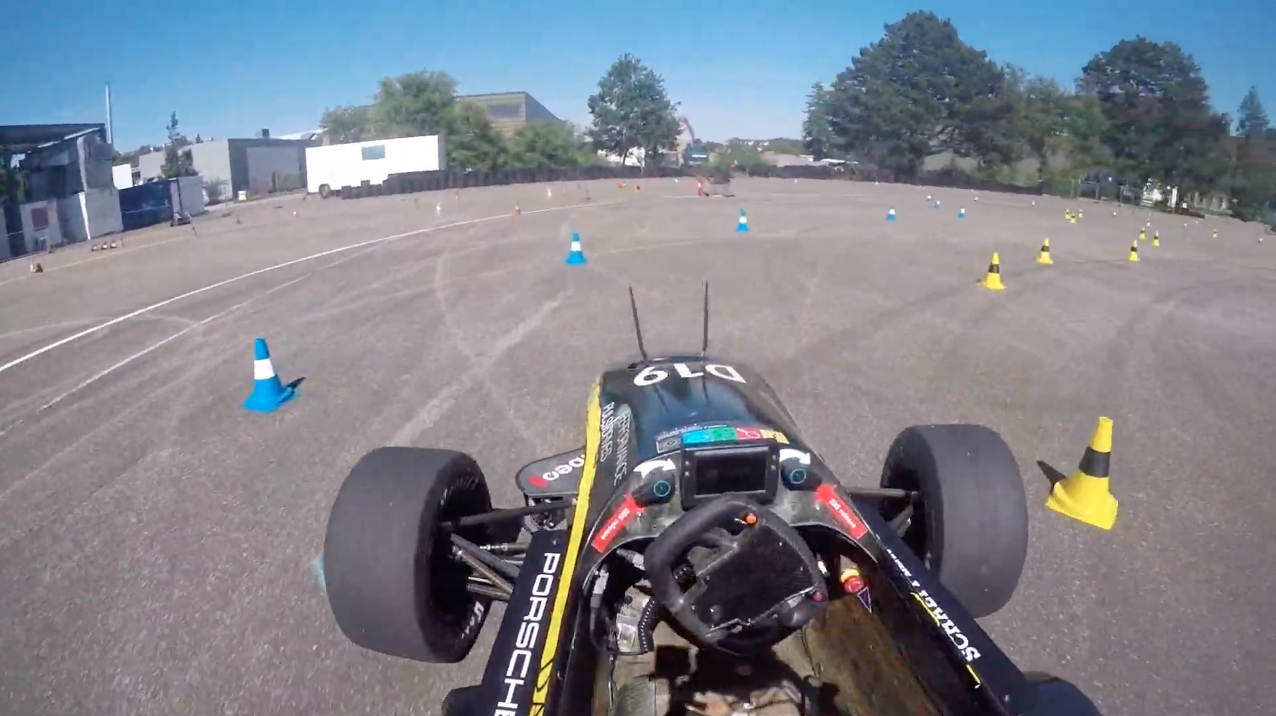lcone: (238, 333, 301, 419), (562, 229, 591, 268), (729, 206, 755, 236)
rcone: (1041, 413, 1133, 533), (977, 251, 1011, 292), (1032, 234, 1058, 267)
